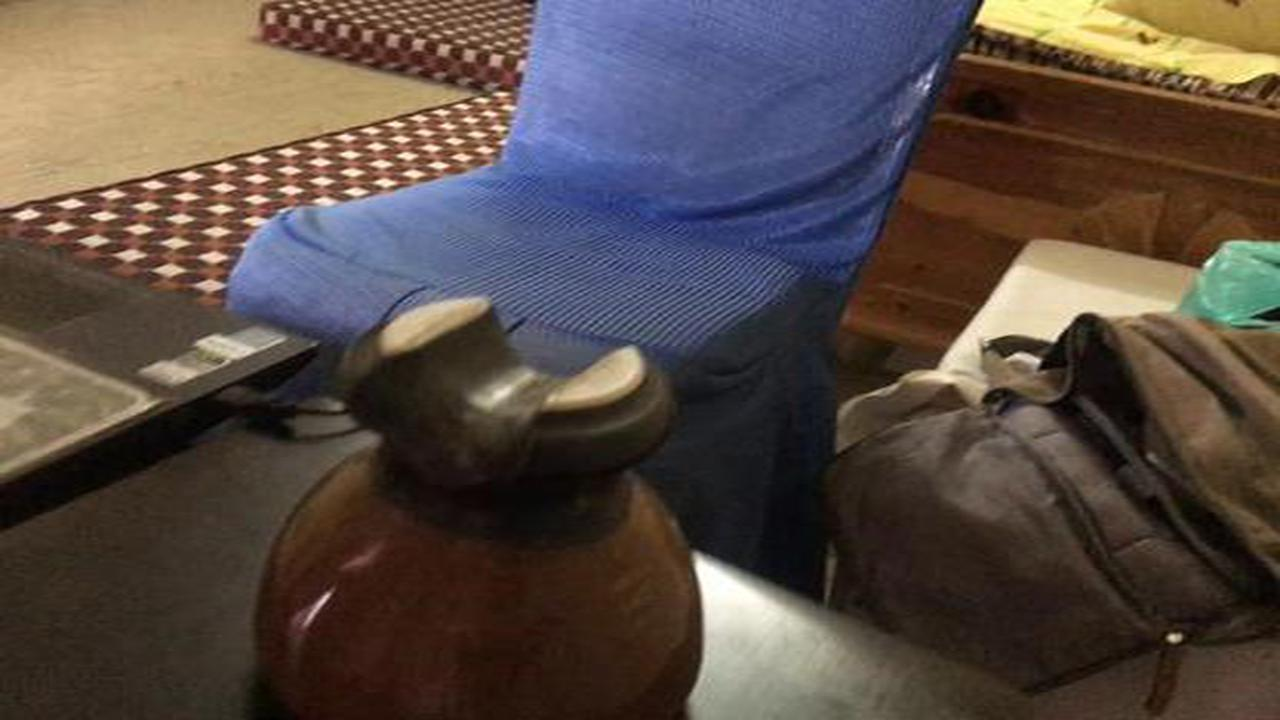insulator_pin: (239, 283, 724, 720)
